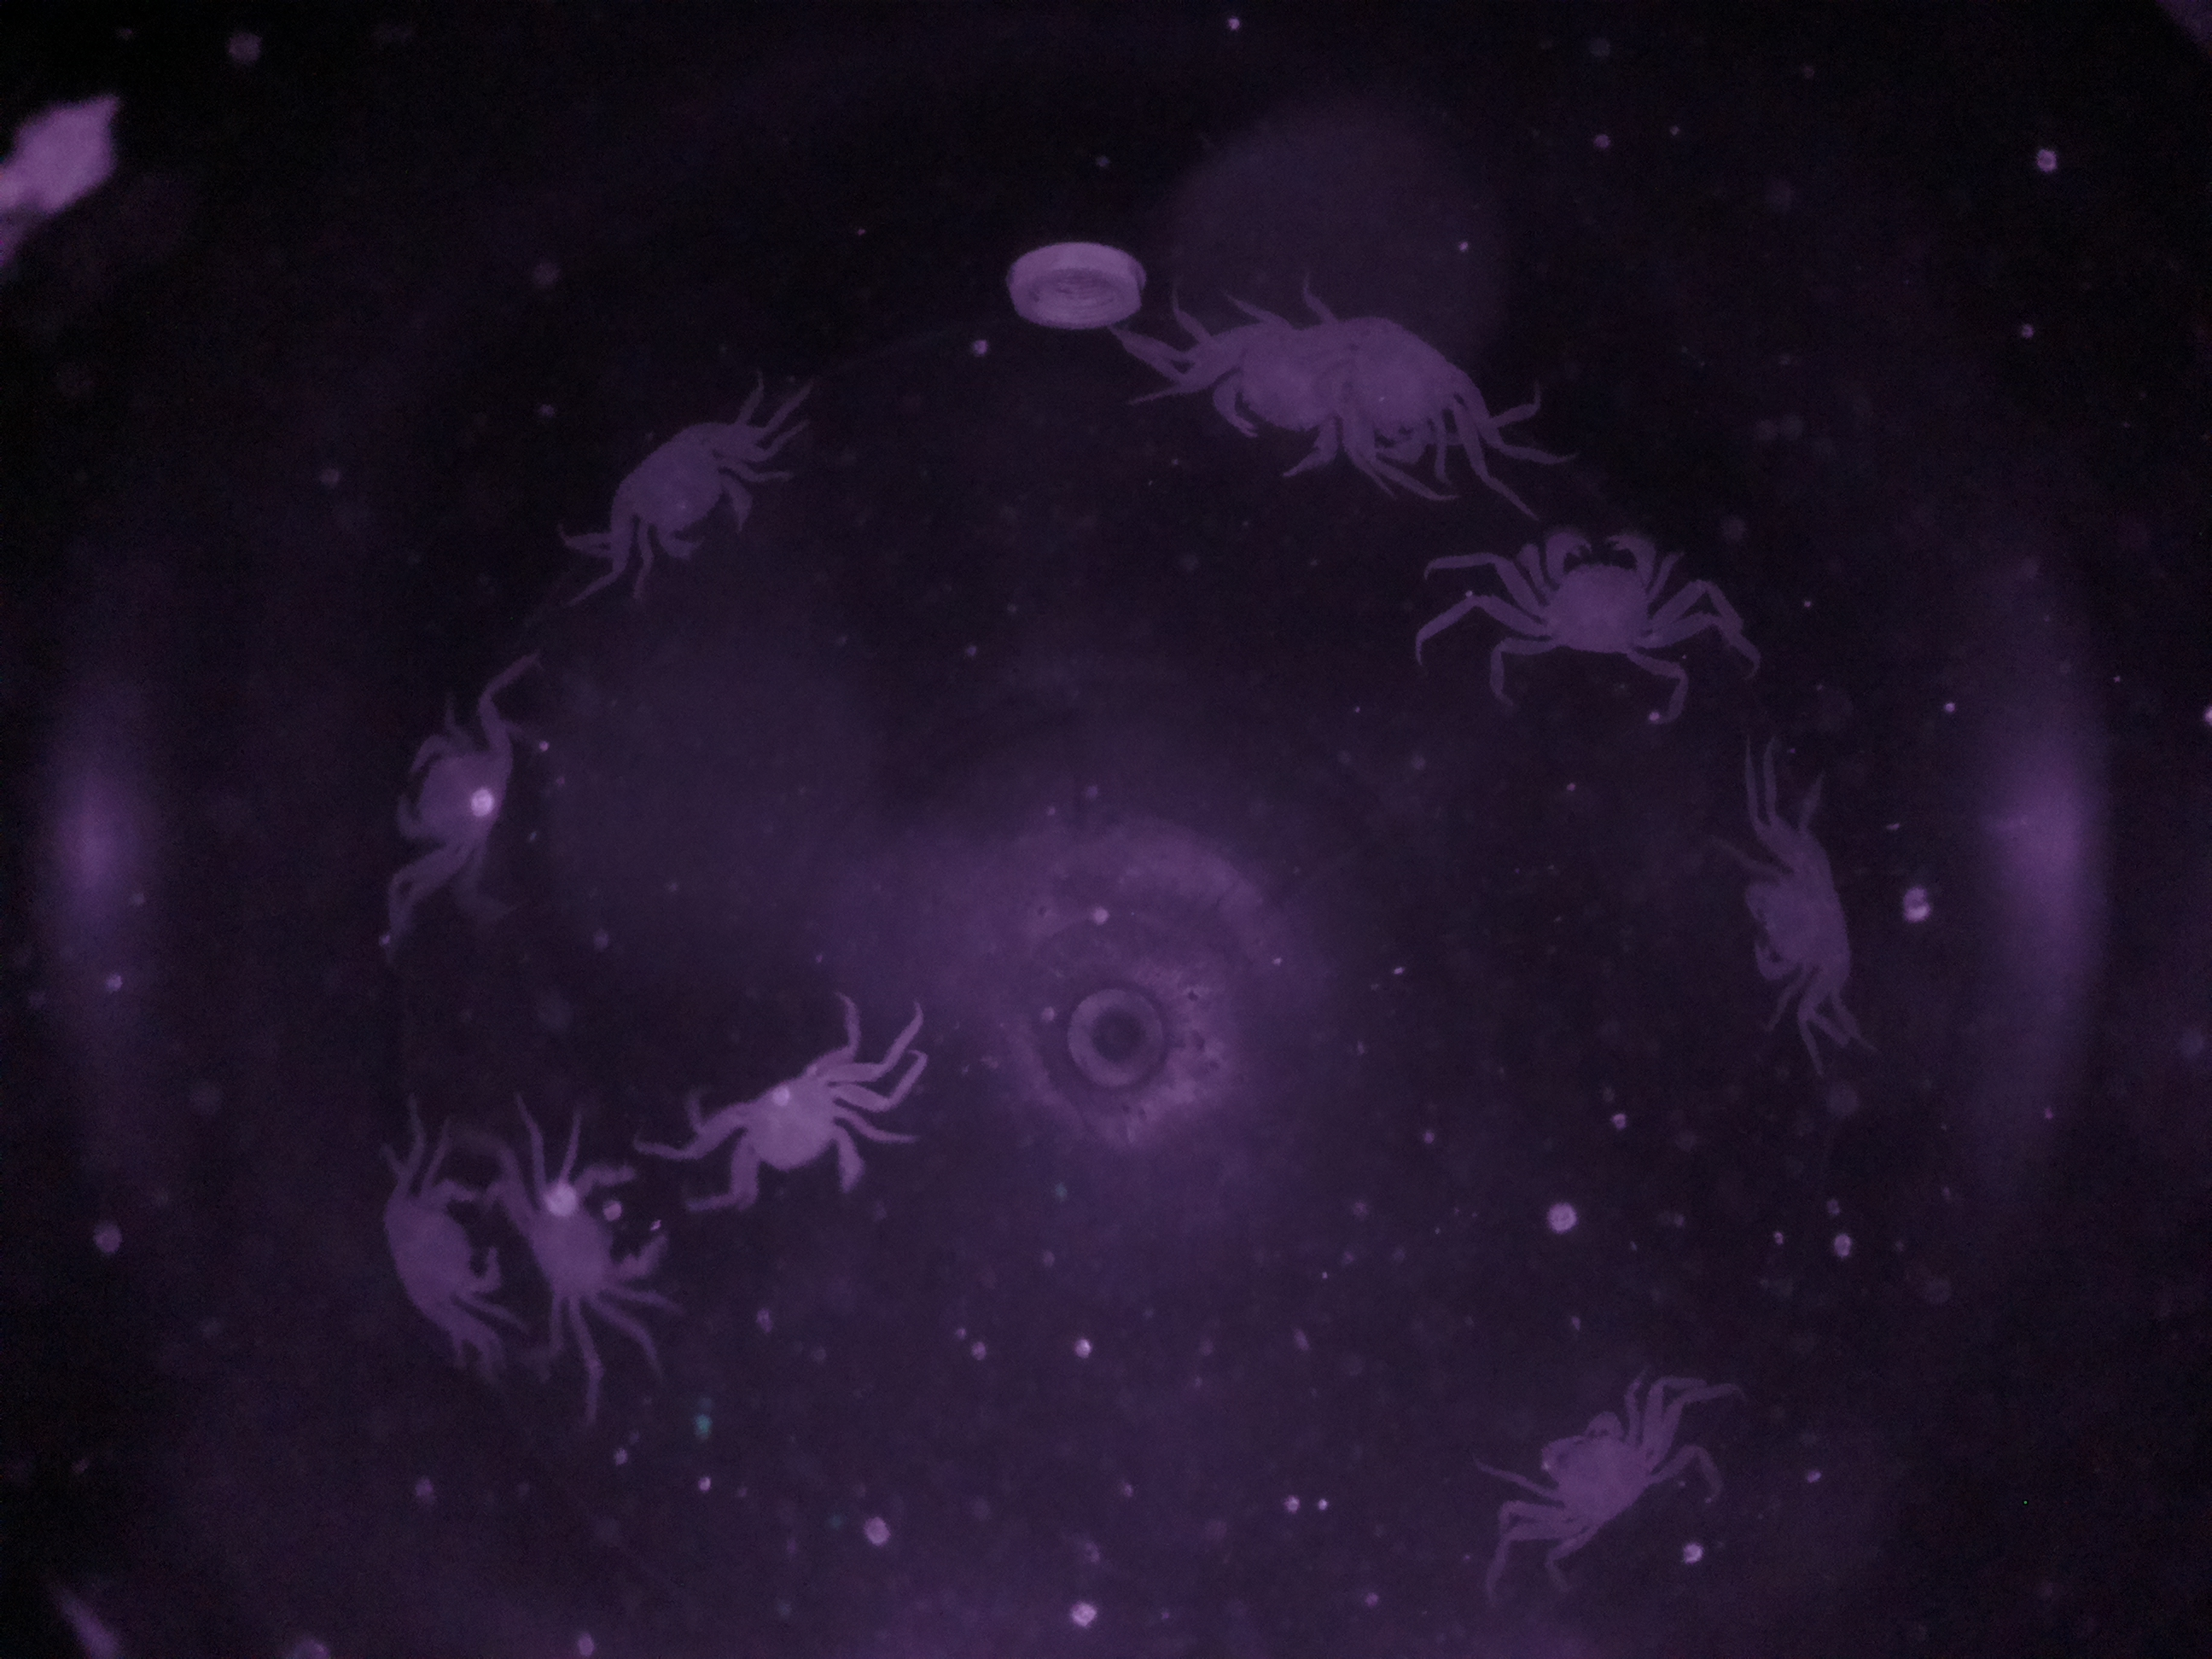Crab: (589, 401, 787, 587), (491, 1150, 672, 1349), (1486, 516, 1703, 678), (1716, 819, 1872, 1028), (1503, 1387, 1686, 1556), (700, 1051, 881, 1216)
